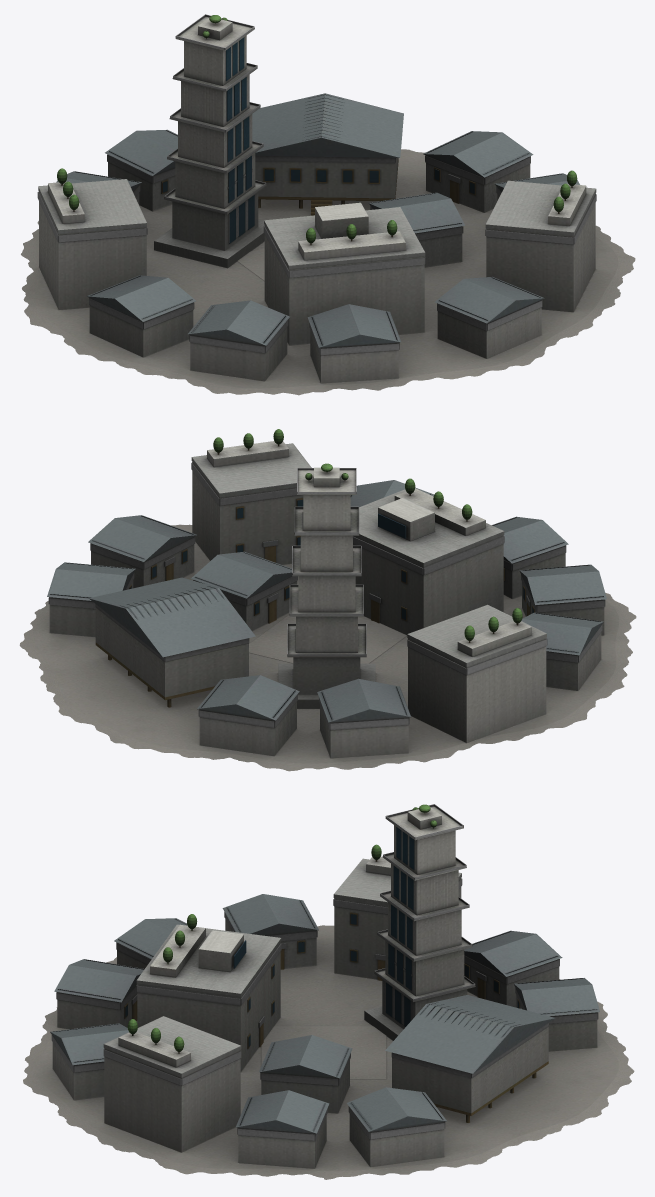
The model's file is modern-town-medium-a-monsoon.glb.
3 renders of one model, top to bottom at view 1: azimuth 30°, elevation 25°; view 2: azimuth 150°, elevation 25°; view 3: azimuth 270°, elevation 25°, orthographic.
Parts seen in each view (by area): view 1: LOD0; view 2: LOD0; view 3: LOD0.
Boxes of the visible parts, <box> form: LOD0: <box>21,14,635,395</box>; LOD0: <box>19,429,636,771</box>; LOD0: <box>23,804,634,1179</box>.
Size of what is drawn, in the model's own units: 5.92 by 2.4 by 6.03.
3 materials, 3 textured.
